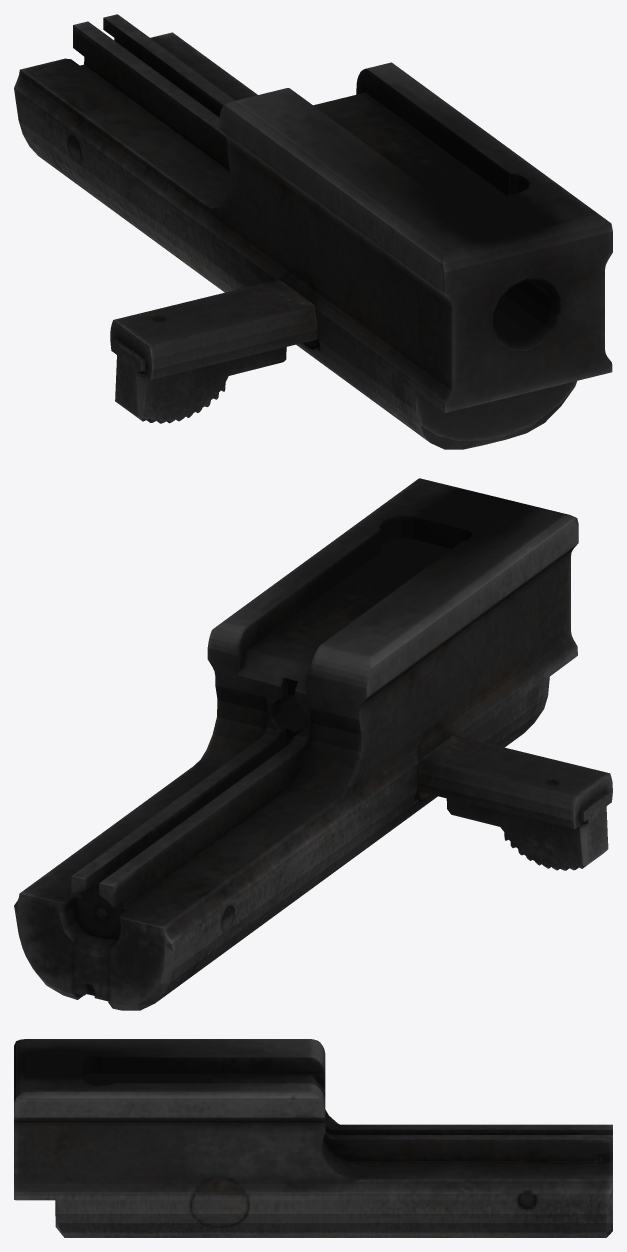
3 renders of one model, top to bottom at view 1: azimuth 30°, elevation 25°; view 2: azimuth 150°, elevation 25°; view 3: azimuth 270°, elevation 25°, orthographic. The views are drawn at different scales.
Visible parts, largest first — view 1: TW_5ea03f7400685063ec28bfa8_PZ_Import; view 2: TW_5ea03f7400685063ec28bfa8_PZ_Import; view 3: TW_5ea03f7400685063ec28bfa8_PZ_Import.
Boxes of the visible parts, x1,y1,x2,y2 form: TW_5ea03f7400685063ec28bfa8_PZ_Import: [14, 14, 612, 449]; TW_5ea03f7400685063ec28bfa8_PZ_Import: [14, 478, 612, 1010]; TW_5ea03f7400685063ec28bfa8_PZ_Import: [14, 1039, 612, 1237].
Bounding box in the file's own units: 0.0318 × 0.0706 × 0.0208.
1 material, 1 textured.
